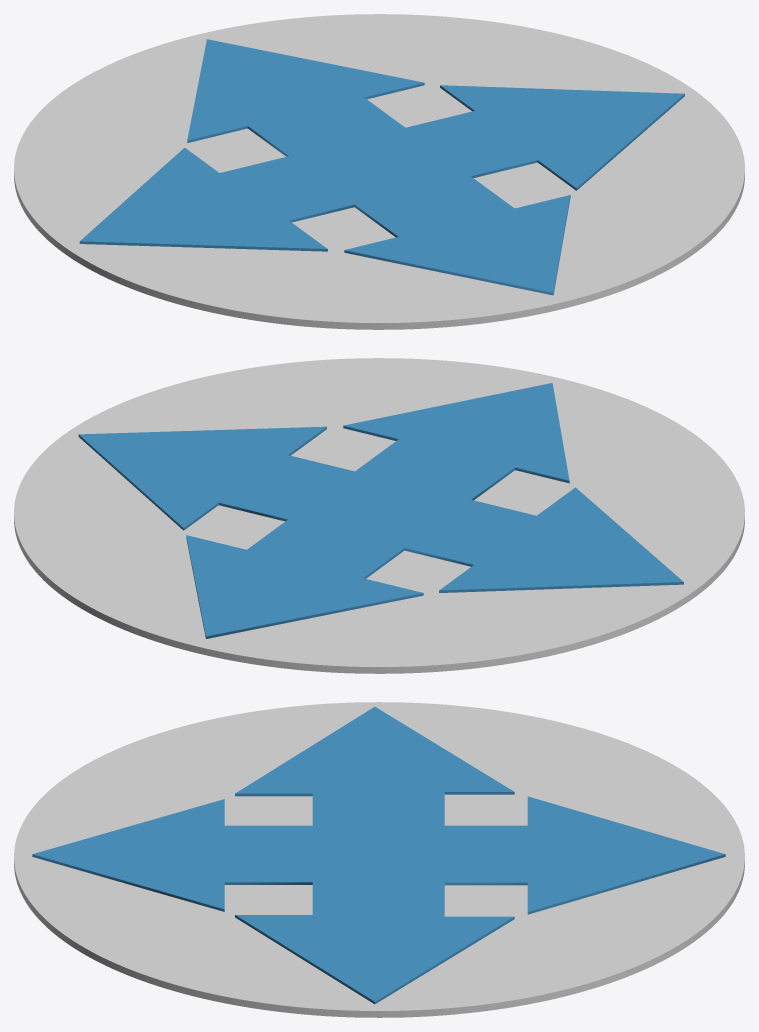
File: strelki.glb
3 renders of one model, top to bottom at view 1: azimuth 30°, elevation 25°; view 2: azimuth 150°, elevation 25°; view 3: azimuth 270°, elevation 25°, orthographic.
Parts seen in each view (by area): view 1: Cylinder001, Box001; view 2: Cylinder001, Box001; view 3: Cylinder001, Box001.
Part boxes in pixels (<box>): Cylinder001: <box>14,14,744,329</box>; Box001: <box>79,39,684,295</box>; Cylinder001: <box>14,358,744,673</box>; Box001: <box>78,383,683,638</box>; Cylinder001: <box>14,702,744,1017</box>; Box001: <box>32,706,725,1004</box>.
Size of the model in its own units: 5.09 by 0.0722 by 5.09.
